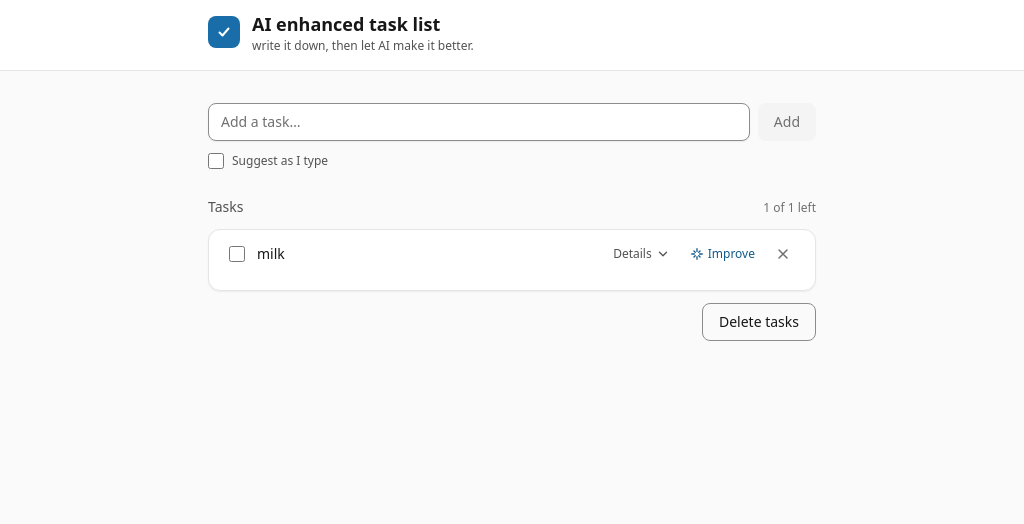
Test case: App AI suggestions › shows a retryable error on a 502 and succeeds on retry
What coordinates should you click on to do the following:
click the button named "Improve \"milk\" with AI"
I would click on:
 (722, 254)
Its box is top-left (682, 238), bottom-right (763, 270).
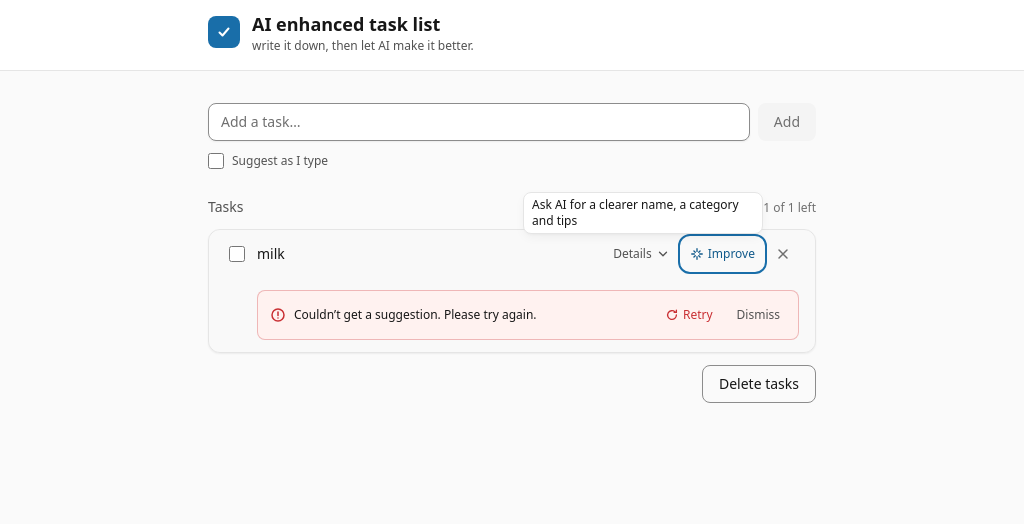
Expected: the element "AI suggestion" is not shown
Expected: the message shows "Couldn’t get a suggestion", top-left (294, 306), bottom-right (536, 323)
What coordinates should you click on to do the following:
click the button "Retry"
I would click on:
 (689, 315)
Its box is top-left (655, 299), bottom-right (722, 331).
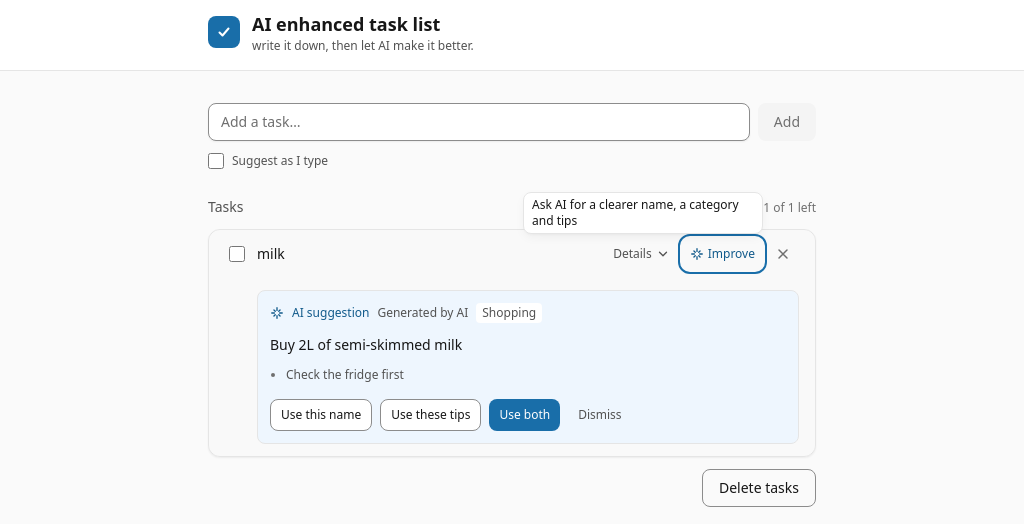
Expected: the text "Buy 2L of semi-skimmed milk" is shown, top-left (270, 335), bottom-right (462, 354)
